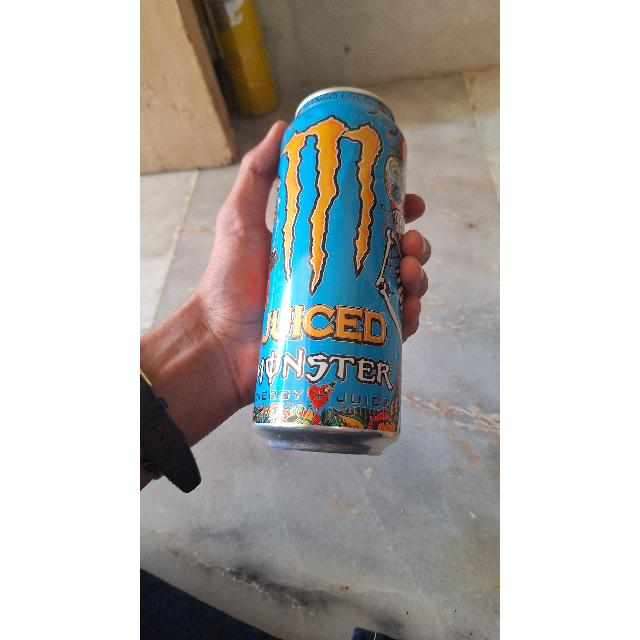Monster Mango Loco: (253, 84, 413, 450)
